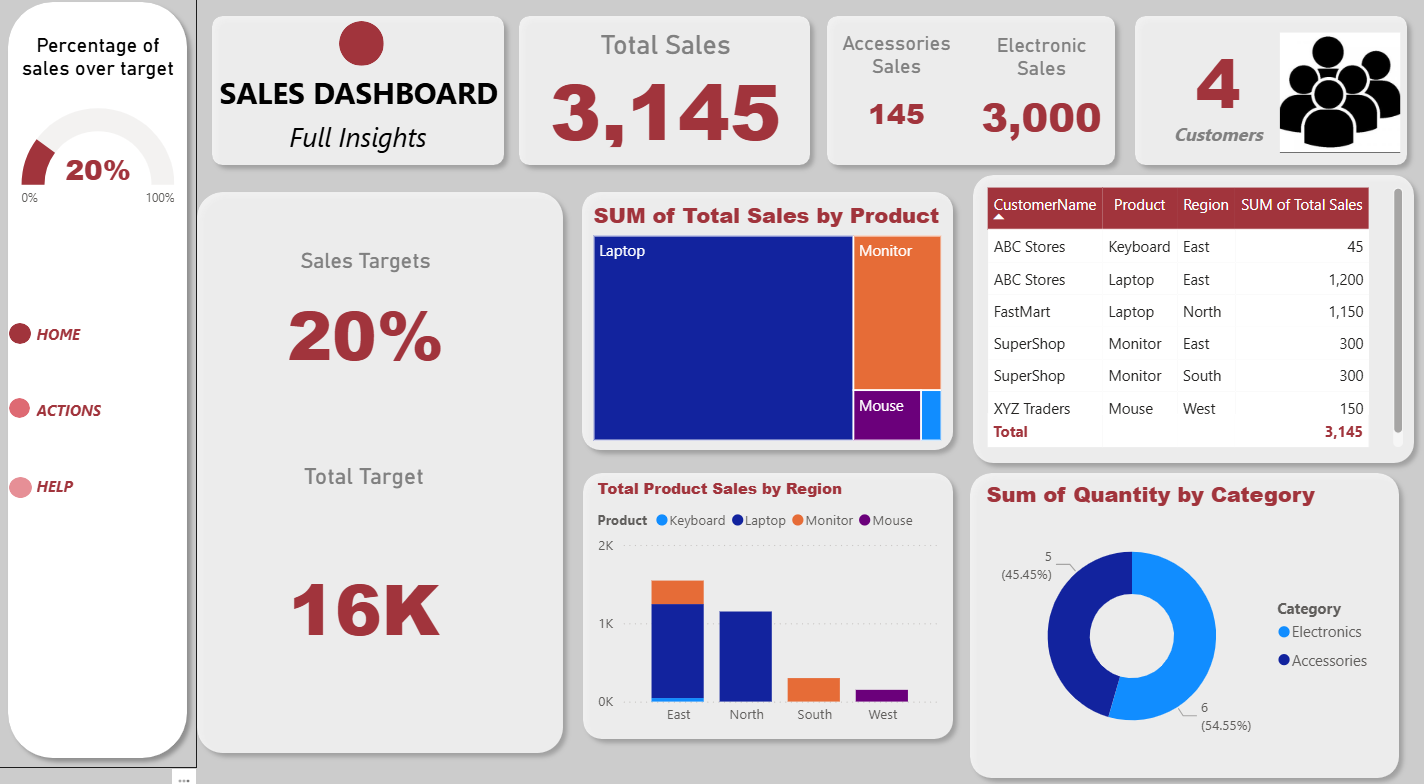

Layout of this report page (visuals, bound fields, positions):
{"tool":"powerbi","page":{"name":"Page 2","canvas":[1280,720],"ordinal":1},"visuals":[{"type":"shape","box":[0,0,178.7,696.7],"z":0},{"type":"shape","box":[458.8,12.6,279.2,151.7],"z":1000},{"type":"shape","box":[183.1,12.6,280.1,151.7],"z":2000},{"type":"shape","box":[735.3,12.6,276.5,151.7],"z":3000},{"type":"shape","box":[1011.8,12.6,262.1,151.7],"z":4000},{"type":"shape","box":[169.7,170.6,346.5,521.6],"z":5000},{"type":"shape","box":[515.3,170.6,351,249.6],"z":6000},{"type":"shape","box":[516.2,422.8,350.1,256.8],"z":7000},{"type":"shape","box":[866.3,155.3,413.9,276.5],"z":8000},{"type":"shape","box":[863.6,422.8,403.1,291.8],"z":10000},{"type":"textbox","box":[193.9,66.4,269.3,52.1],"z":11000},{"type":"textbox","box":[187.6,107.7,271.1,47.6],"z":12000},{"type":"shape","box":[306.1,26,40.4,40.4],"z":13000},{"type":"card","title":"Total Sales","fields":{"Values":["Sales_Orders.SUM of Total Sales"]},"box":[479.4,33.2,239.7,111.3],"z":14000},{"type":"card","title":"Electronic Sales","fields":{"Values":["Sales_Orders.Electronics Sales"]},"box":[877.1,36.8,119.4,107.7],"z":15000},{"type":"card","title":"Accessories Sales","fields":{"Values":["Sales_Orders.Accessories Sales"]},"box":[746.9,35,119.4,107.7],"z":16000},{"type":"card","title":"Sales Targets","fields":{"Values":["Targets.sales over target%2"]},"box":[196.6,229.8,266.6,126.6],"z":17000},{"type":"card","title":"Total Target","fields":{"Values":["Targets.Total Target"]},"box":[192.1,422.8,272.9,230.7],"z":18000},{"type":"treemap","fields":{"Group":["Sales_Orders.Product"],"Values":["Sales_Orders.SUM of Total Sales"]},"box":[529.7,186.7,322.3,220.8],"z":19000},{"type":"donutChart","fields":{"Category":["Sales_Orders.Category"],"Y":["Sum(Sales_Orders.Quantity)"]},"box":[882.5,437.2,360.9,255],"z":20000},{"type":"columnChart","title":" Total Product Sales by Region","fields":{"Category":["Sales_Orders.Region"],"Series":["Sales_Orders.Product"],"Y":["Sales_Orders.SUM of Total Sales"]},"box":[533.3,435.4,315.1,231.6],"z":21000},{"type":"card","fields":{"Values":["Customers.Customers Count"]},"box":[1027,28.7,136.5,120.3],"z":22000},{"type":"image","box":[1142.8,31.4,123.9,117.6],"z":23000},{"type":"gauge","title":"Percentage of sales over target","fields":{"Y":["Targets.sales over target%2"]},"box":[16.2,36.8,147.2,186.7],"z":24000},{"type":"textbox","box":[29.6,293.6,79.9,197.5],"z":25000},{"type":"shape","box":[9.9,297.2,19.8,18.9],"z":25001},{"type":"shape","box":[9.9,364.5,18.9,18],"z":25002},{"type":"shape","box":[9.9,435.4,20.6,18.9],"z":25003},{"type":"tableEx","fields":{"Values":["Customers.CustomerName","Sales_Orders.Product","Sales_Orders.Region","Sales_Orders.SUM of Total Sales"]},"box":[882.5,170.6,384.2,243.3],"z":25004}]}

Visuals, with their boxes in screenshot pixels (x1, y1, x2, y2), scaled from the page's 1280x720 canvas onto the 1424x784 screenshot:
shape: rect(0, 0, 199, 759)
shape: rect(510, 14, 821, 179)
shape: rect(204, 14, 515, 179)
shape: rect(818, 14, 1126, 179)
shape: rect(1126, 14, 1417, 179)
shape: rect(189, 186, 574, 754)
shape: rect(573, 186, 964, 458)
shape: rect(574, 460, 964, 740)
shape: rect(964, 169, 1423, 470)
shape: rect(961, 460, 1409, 778)
textbox: rect(216, 72, 515, 129)
textbox: rect(209, 117, 510, 169)
shape: rect(341, 28, 385, 72)
"Total Sales" card: rect(533, 36, 800, 157)
"Electronic Sales" card: rect(976, 40, 1109, 157)
"Accessories Sales" card: rect(831, 38, 964, 155)
"Sales Targets" card: rect(219, 250, 515, 388)
"Total Target" card: rect(214, 460, 517, 712)
treemap - Sales_Orders.Product x Sales_Orders.SUM of Total Sales: rect(589, 203, 948, 444)
donutChart - Sales_Orders.Category x Sum(Sales_Orders.Quantity): rect(982, 476, 1383, 754)
" Total Product Sales by Region" columnChart: rect(593, 474, 944, 726)
card - Customers.Customers Count: rect(1143, 31, 1294, 162)
image: rect(1271, 34, 1409, 162)
"Percentage of sales over target" gauge: rect(18, 40, 182, 243)
textbox: rect(33, 320, 122, 535)
shape: rect(11, 324, 33, 344)
shape: rect(11, 397, 32, 416)
shape: rect(11, 474, 34, 495)
tableEx - Customers.CustomerName x Sales_Orders.Product: rect(982, 186, 1409, 451)
